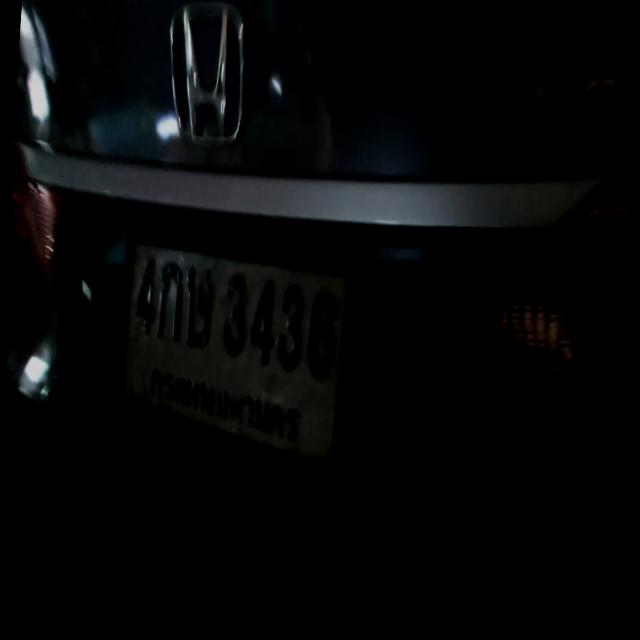license_plate: (116, 240, 355, 477)
